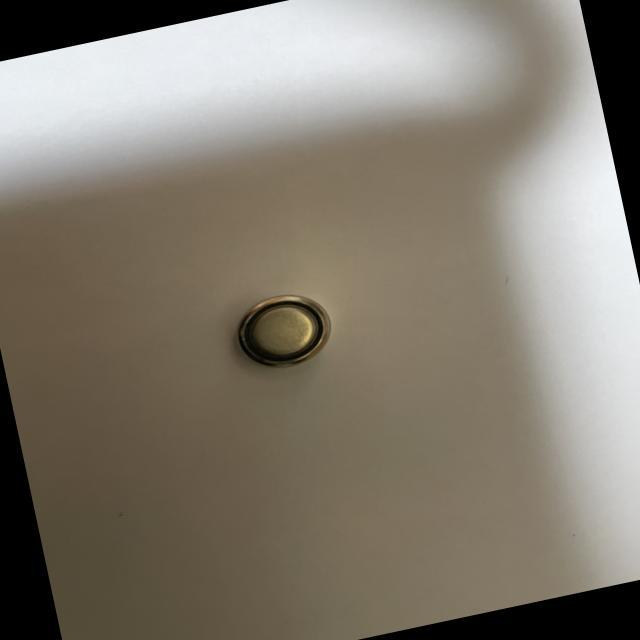COIN: (226, 282, 338, 378)
